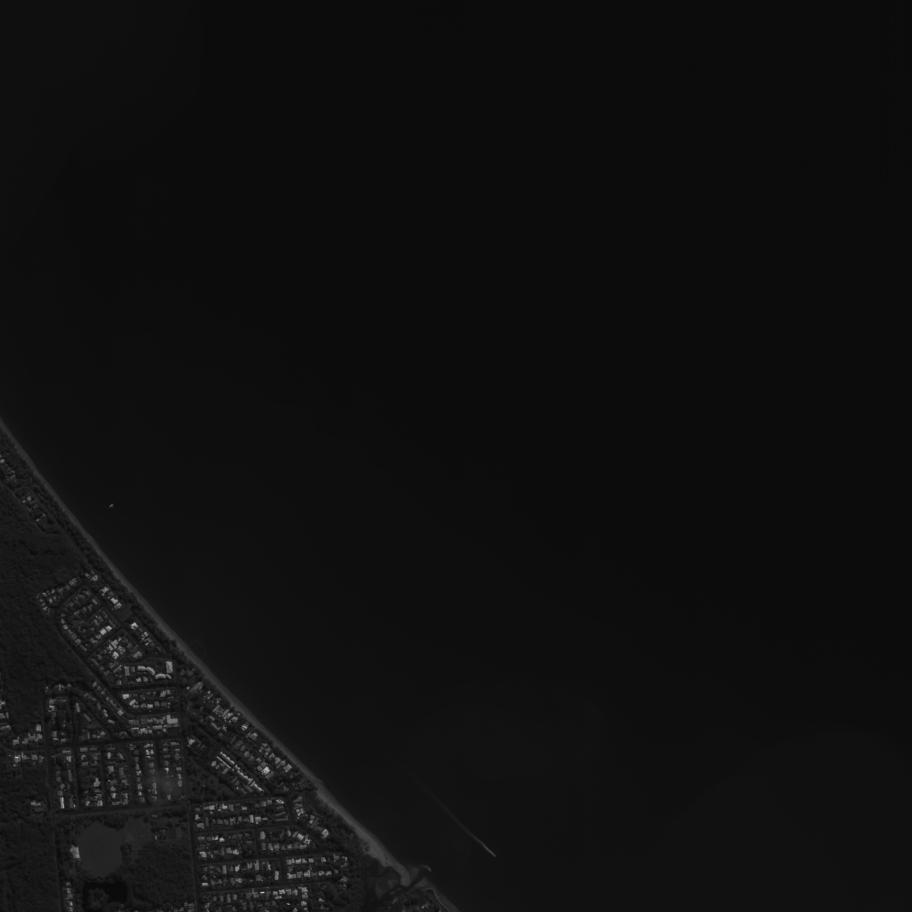plane: (108, 502, 116, 510)
